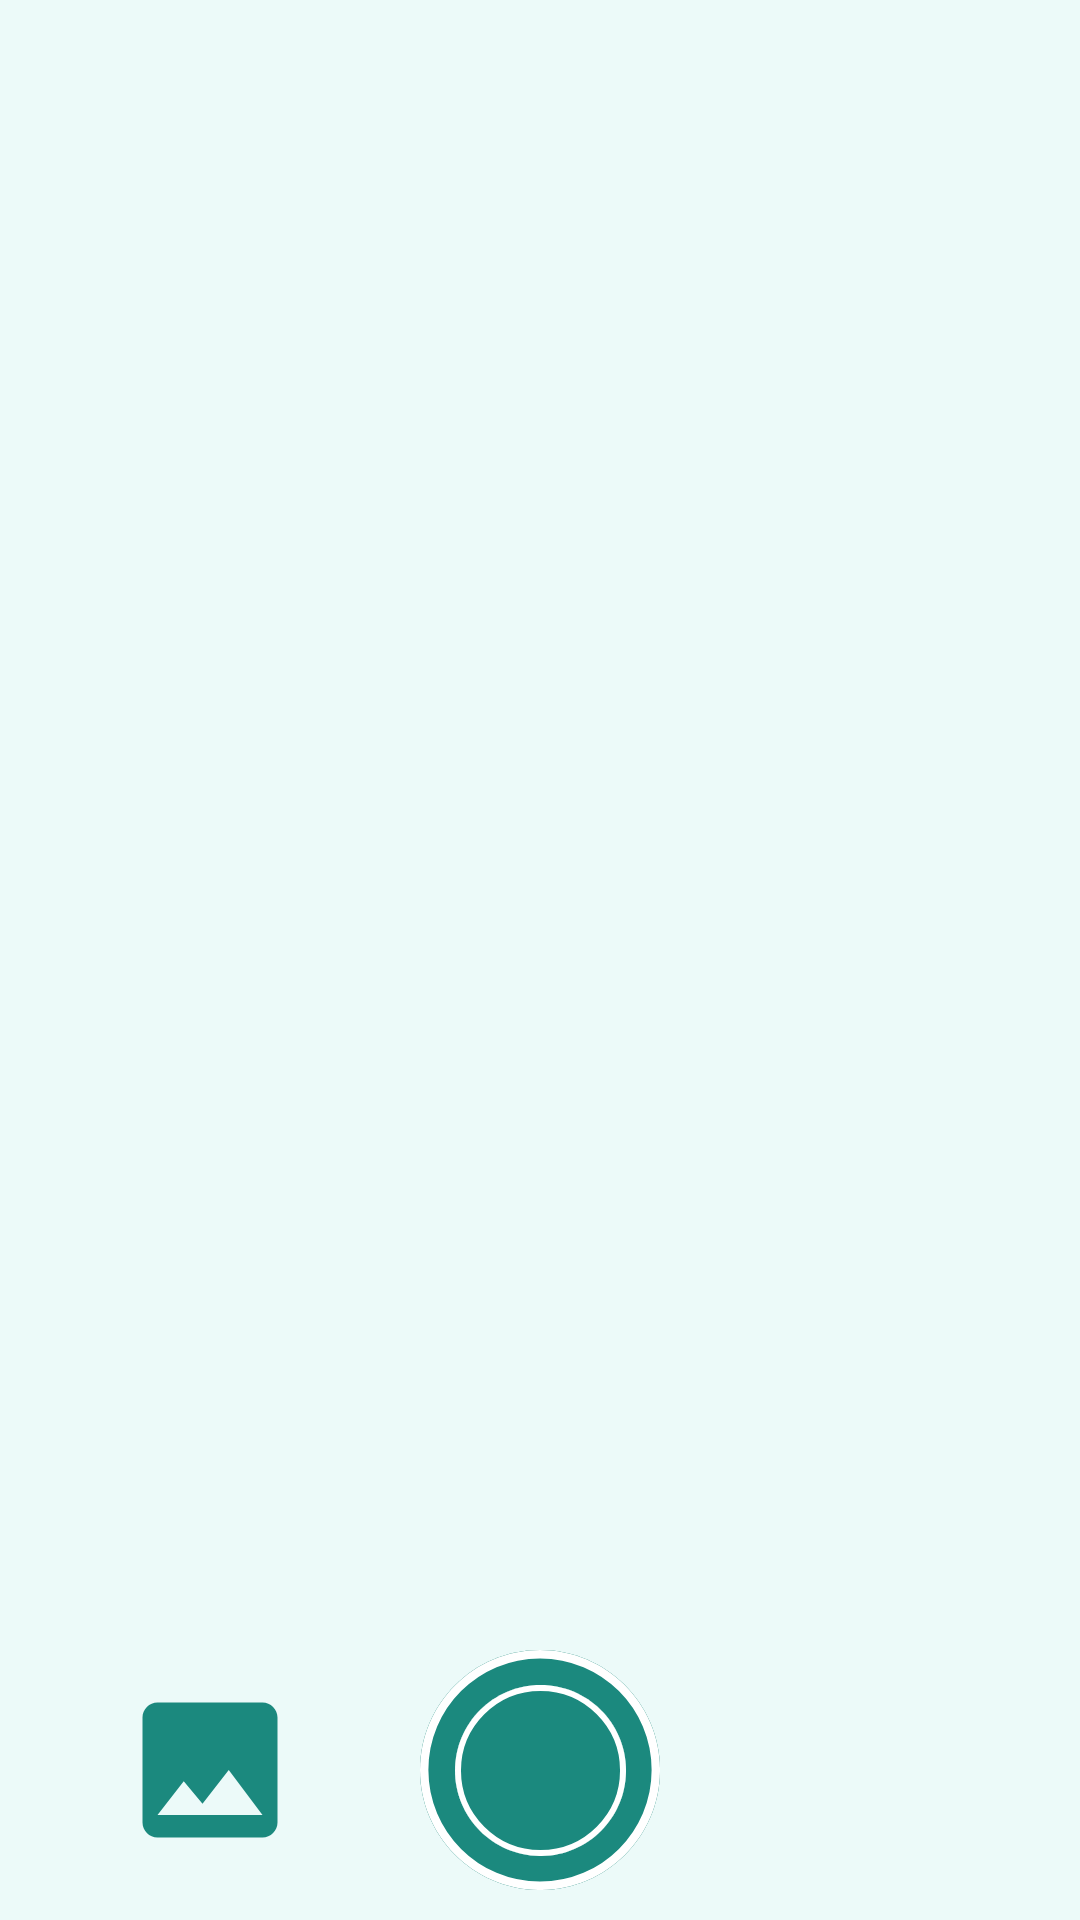

Named icons in this screenshot (1080x1920) and their centers, (x,y):
photo: (210,1770)
